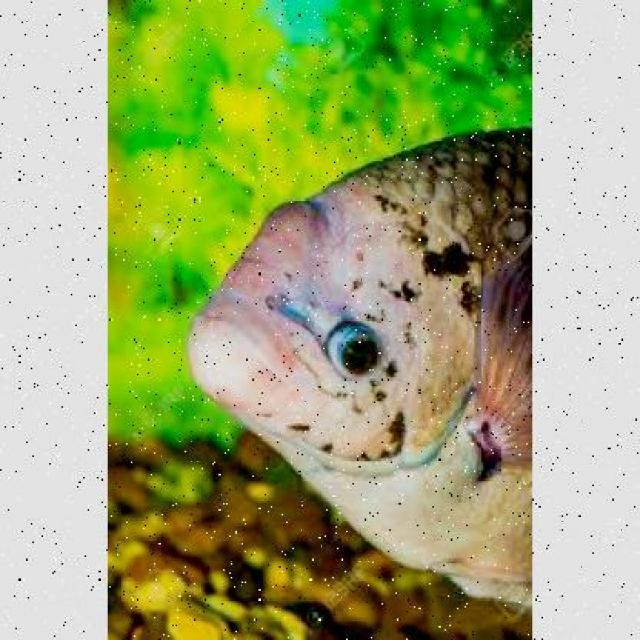gurame: (205, 137, 530, 596)
